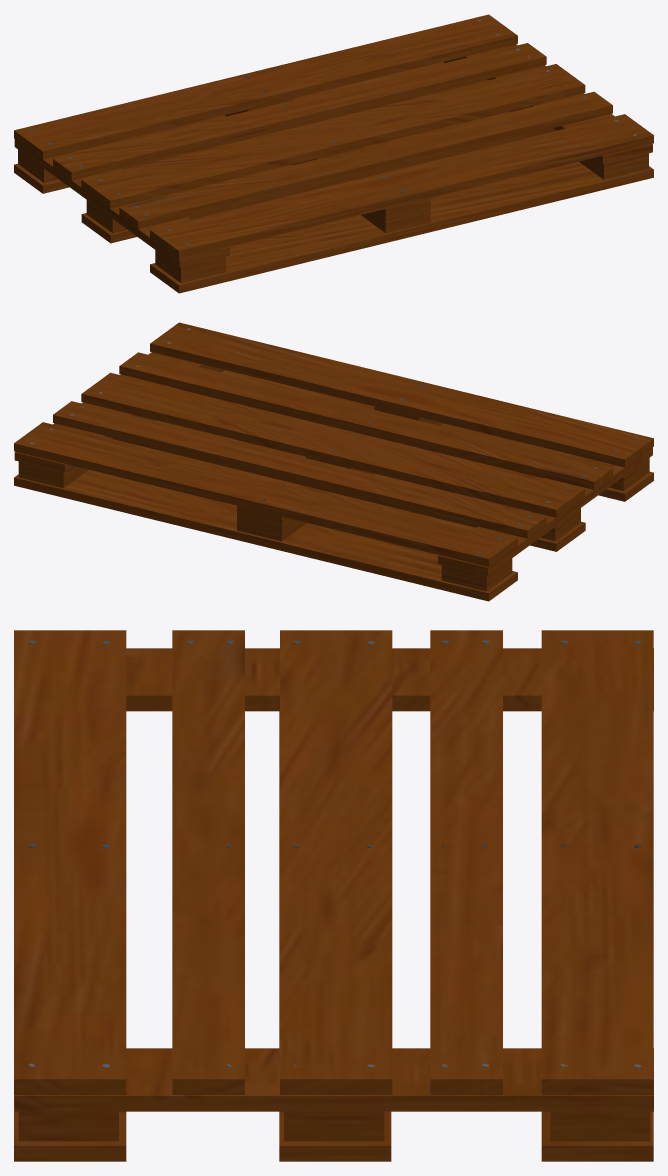
The model's file is pale.obj.
3 renders of one model, top to bottom at view 1: azimuth 30°, elevation 25°; view 2: azimuth 150°, elevation 25°; view 3: azimuth 270°, elevation 25°, orthographic. The views are drawn at different scales.
Visible parts, largest first — view 1: pCube1; view 2: pCube1; view 3: pCube1.
Boxes of the visible parts, left/top/right/bottom form: pCube1: left=14, top=14, right=653, bottom=293; pCube1: left=14, top=322, right=653, bottom=601; pCube1: left=14, top=630, right=653, bottom=1161.
Bounding box in the file's own units: 12.06 × 1.04 × 7.27.
Materials: 1 (1 with a texture image).
